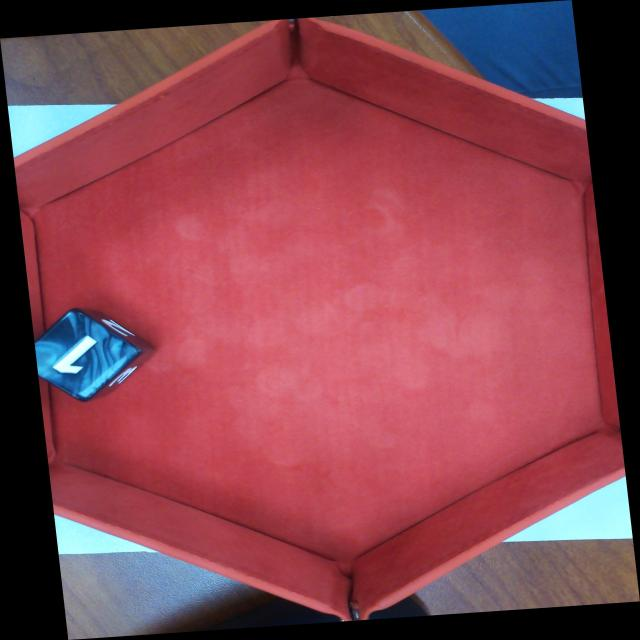dice: (35, 310, 137, 397)
